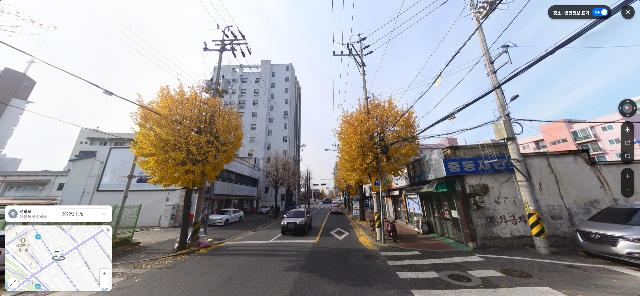ginkgo: (131, 79, 245, 250), (333, 96, 420, 236), (334, 139, 378, 221)
other: (264, 149, 301, 215), (300, 167, 315, 205)
